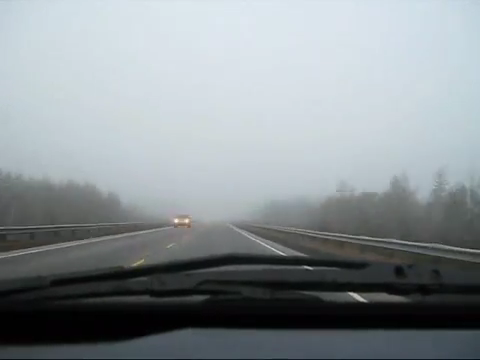car: (171, 214, 194, 227)
